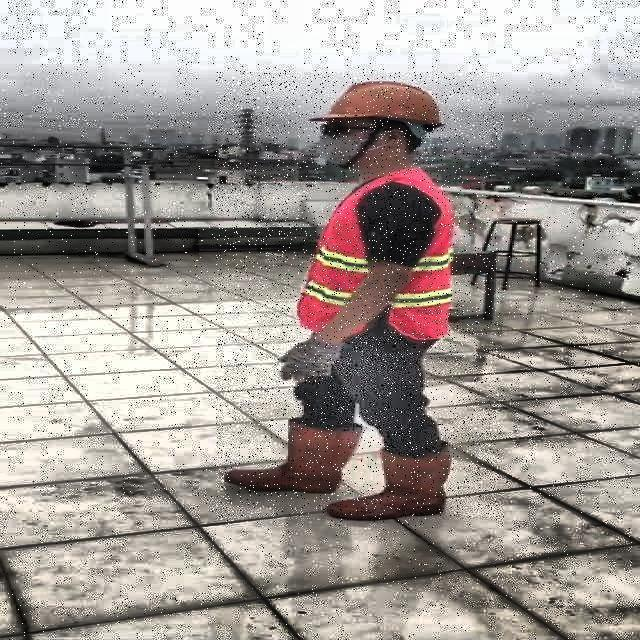safety_helmet: (322, 78, 444, 126)
safety_jacket: (299, 168, 457, 339)
